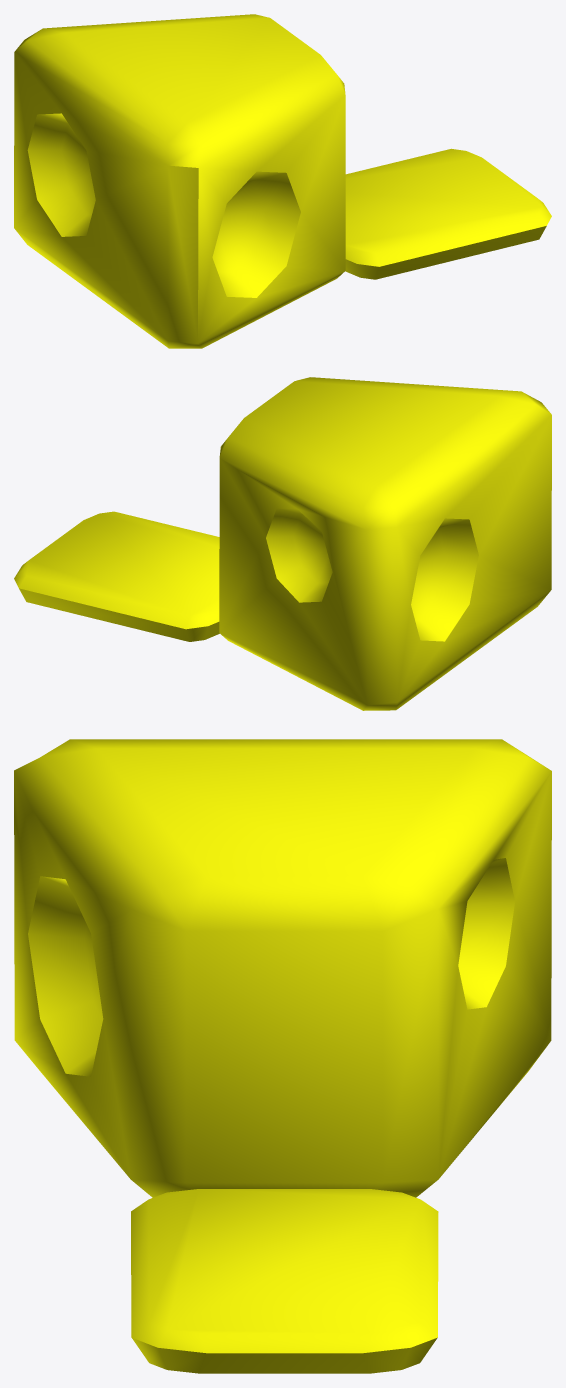
Rendered from kaykit-food-ingredient-cheese-chopped.glb.
3 views of the same model, one above another, from view 1: azimuth 30°, elevation 25°; view 2: azimuth 150°, elevation 25°; view 3: azimuth 270°, elevation 25° (orthographic). The views are drawn at different scales.
Visible parts, largest first — view 1: food_ingredient_cheese_chopped; view 2: food_ingredient_cheese_chopped; view 3: food_ingredient_cheese_chopped.
Boxes of the visible parts, x1,y1,x2,y2 form: food_ingredient_cheese_chopped: (14,14,551,348); food_ingredient_cheese_chopped: (14,377,551,710); food_ingredient_cheese_chopped: (14,739,551,1373).
Bounding box in the file's own units: 1.02 × 0.5 × 0.722.
